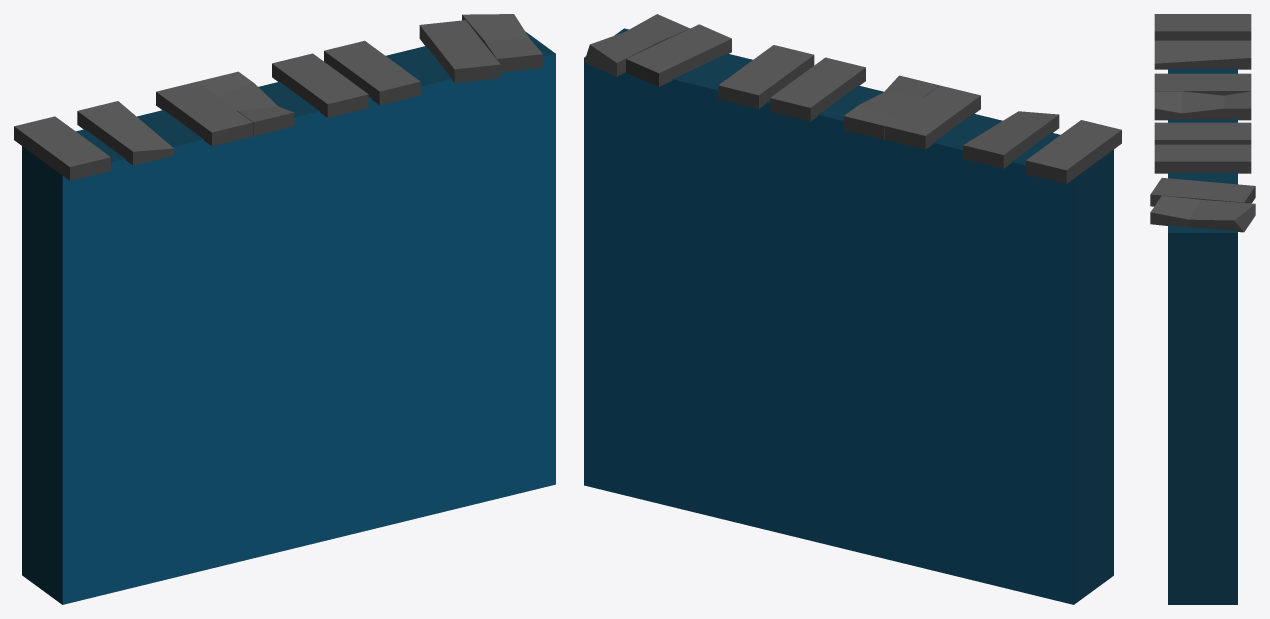
The model's file is wall_type_05.fbx.
The picture shows the model from 3 angles, left to right: view 1: azimuth 30°, elevation 25°; view 2: azimuth 150°, elevation 25°; view 3: azimuth 270°, elevation 25°; orthographic projection. The views are drawn at different scales.
Visible parts, largest first — view 1: wall_type_05; view 2: wall_type_05; view 3: wall_type_05.
Boxes of the visible parts, x1,y1,x2,y2 form: wall_type_05: [14, 14, 555, 604]; wall_type_05: [584, 14, 1121, 604]; wall_type_05: [1150, 14, 1255, 604].
Size of the model in its own units: 156 by 134 by 33.26.
